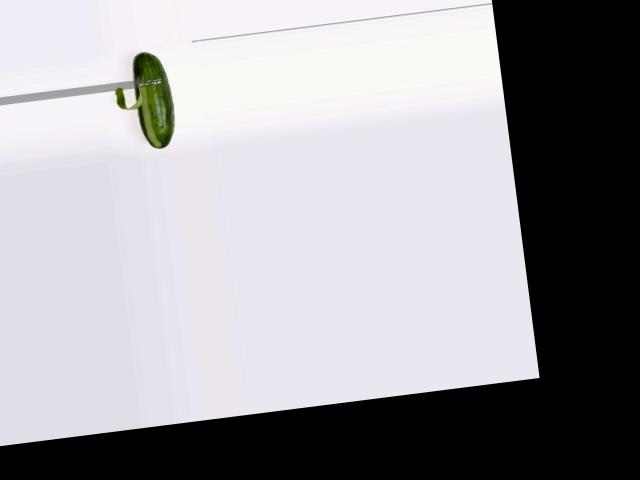cucumber: (128, 49, 177, 150)
